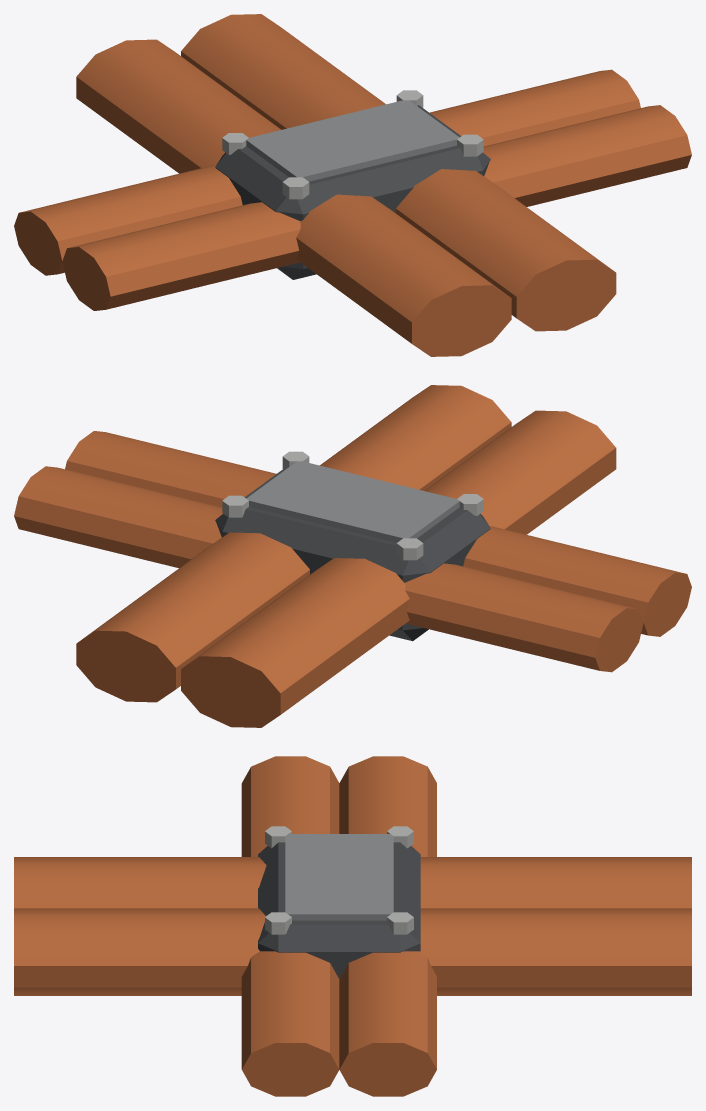
Rendered from heat-pipe-cross.glb.
The picture shows the model from 3 angles, top to bottom: view 1: azimuth 30°, elevation 25°; view 2: azimuth 150°, elevation 25°; view 3: azimuth 270°, elevation 25°; orthographic projection.
Visible parts, largest first — view 1: body; view 2: body; view 3: body.
Part boxes in pixels (left/top/right/bottom): body: left=14, top=14, right=691, bottom=356; body: left=14, top=385, right=691, bottom=727; body: left=14, top=756, right=691, bottom=1096.
Size of the model in its own units: 1 by 0.16 by 1.
